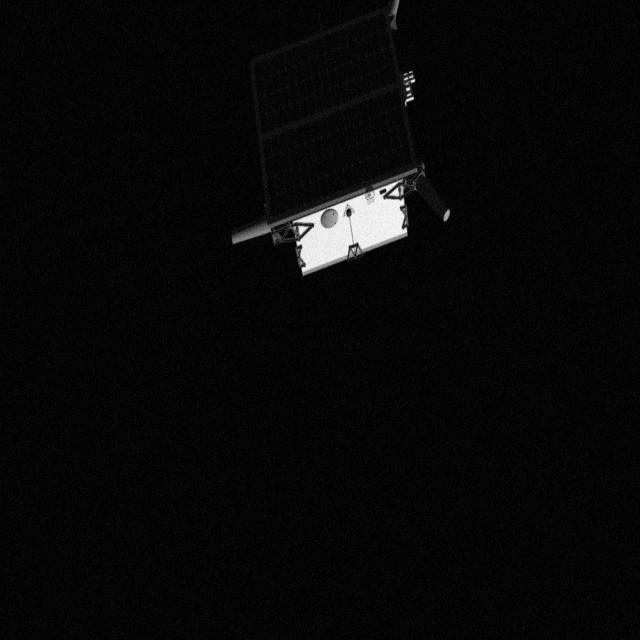satellite: (224, 0, 466, 290)
